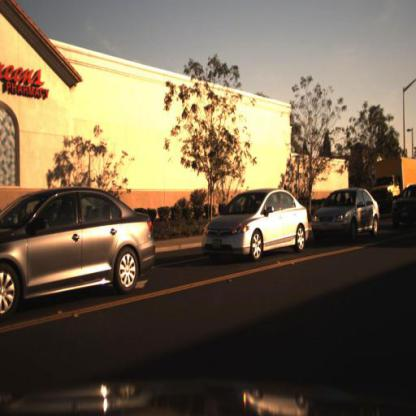car: (1, 187, 160, 321), (195, 190, 310, 265), (203, 186, 309, 263), (309, 187, 382, 246), (390, 185, 416, 235)
truck: (376, 155, 416, 217)
